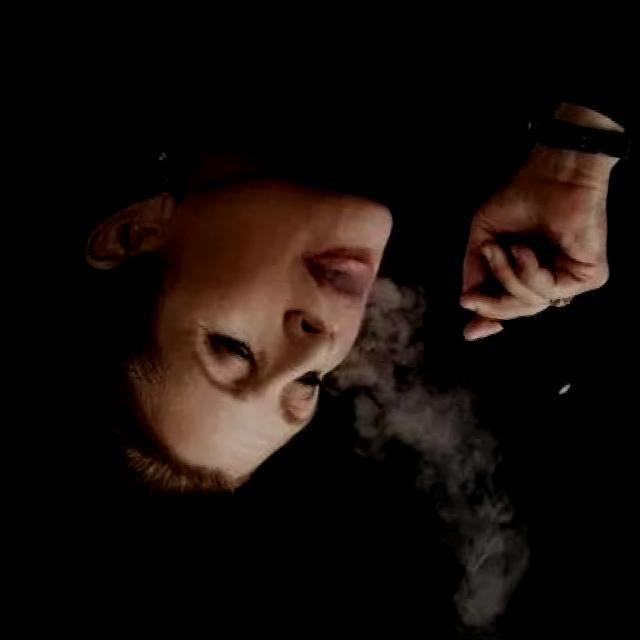cigarette: (416, 240, 592, 403)
